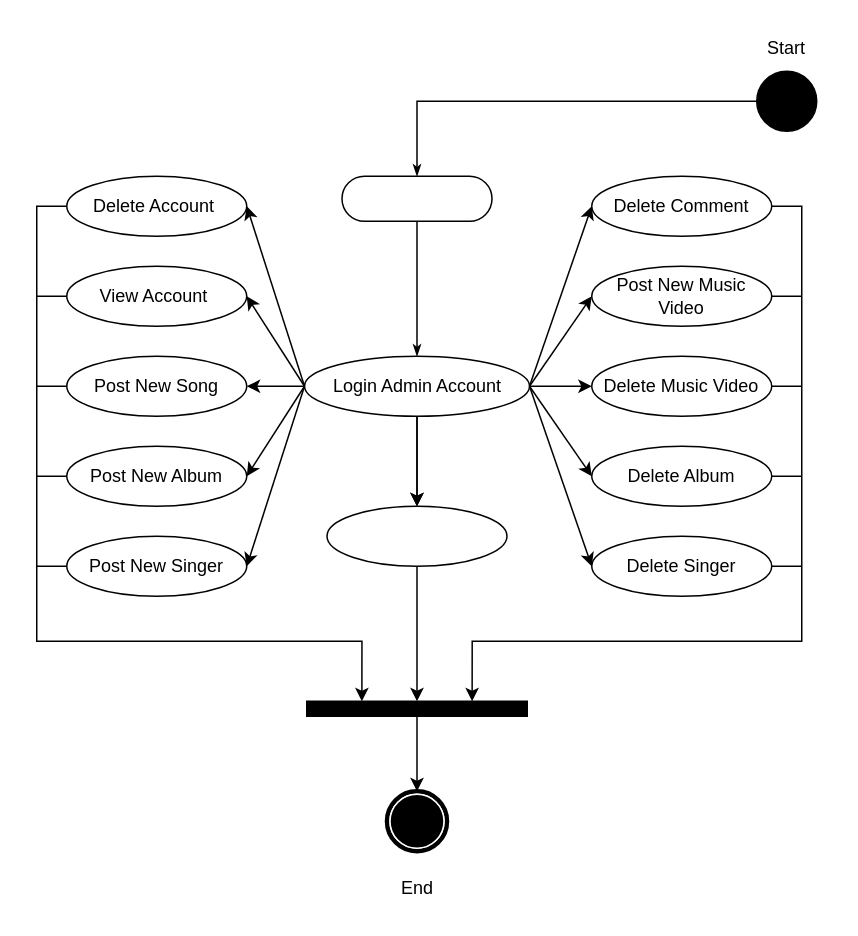
The diagram is 858 pixels wide and 936 high, and some of its shapes have lost their labels. Here are the shapes that lost their labels. From the top down, the centre of each, then its label:
(416,198): Website Access
(416,535): Delete Song
